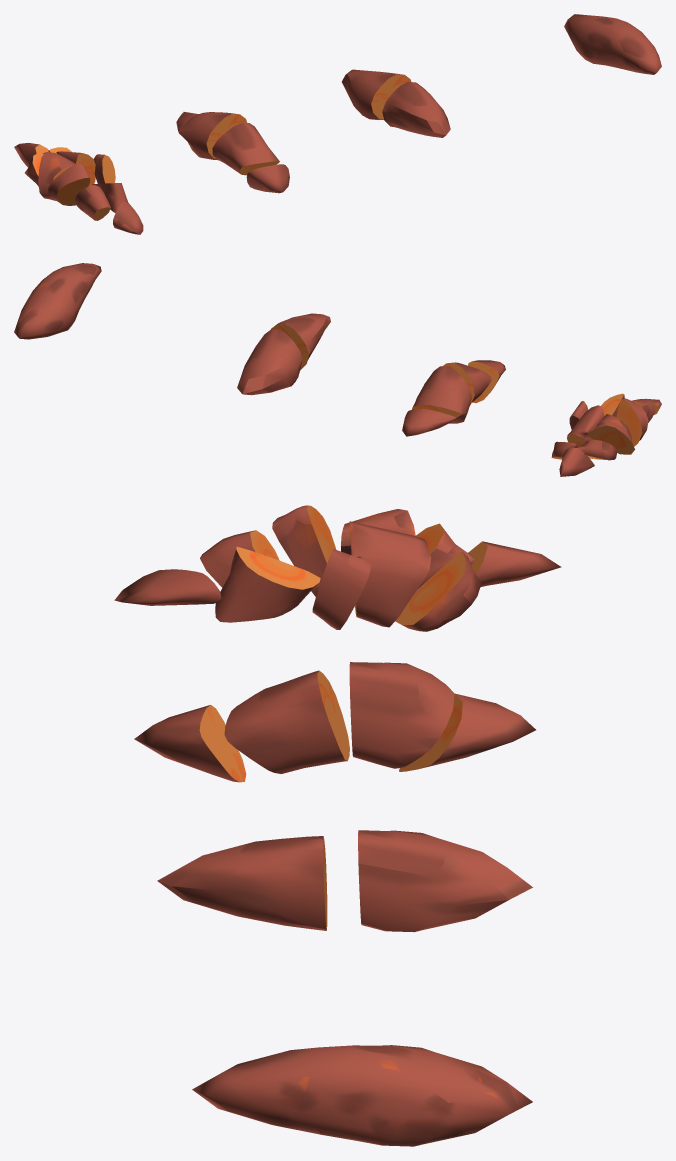
The model's file is sweet potato.fbx.
3 views of the same model, one above another, from view 1: azimuth 30°, elevation 25°; view 2: azimuth 150°, elevation 25°; view 3: azimuth 270°, elevation 25° (orthographic). The views are drawn at different scales.
Parts seen in each view (by area): view 1: Cube.003, Cube.002, Cube.001, Cube; view 2: Cube.003, Cube.002, Cube.001, Cube; view 3: Cube.003, Cube.002, Cube.001, Cube.
Boxes of the visible parts, bbox=[...] form: Cube.003: bbox=[14, 143, 143, 234]; Cube.002: bbox=[176, 112, 289, 193]; Cube.001: bbox=[342, 69, 450, 137]; Cube: bbox=[564, 14, 661, 74]; Cube.003: bbox=[551, 393, 661, 476]; Cube.002: bbox=[402, 360, 505, 436]; Cube.001: bbox=[237, 313, 330, 395]; Cube: bbox=[14, 263, 101, 339]; Cube.003: bbox=[114, 505, 561, 631]; Cube.002: bbox=[134, 662, 535, 782]; Cube.001: bbox=[157, 830, 532, 932]; Cube: bbox=[192, 1045, 532, 1146].
Bounding box in the file's own units: 342 × 30.82 × 111.
